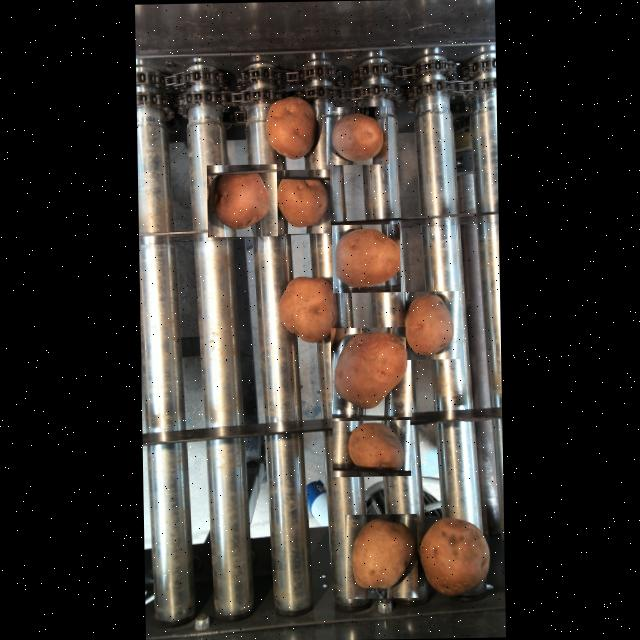Diseased-fungal potato: (332, 418, 411, 476)
Potato: (415, 508, 495, 601), (330, 326, 412, 416), (344, 512, 418, 598), (206, 163, 278, 236), (272, 272, 340, 348), (332, 222, 401, 292), (262, 89, 323, 158), (404, 290, 460, 358), (326, 105, 388, 164), (274, 168, 330, 233)
